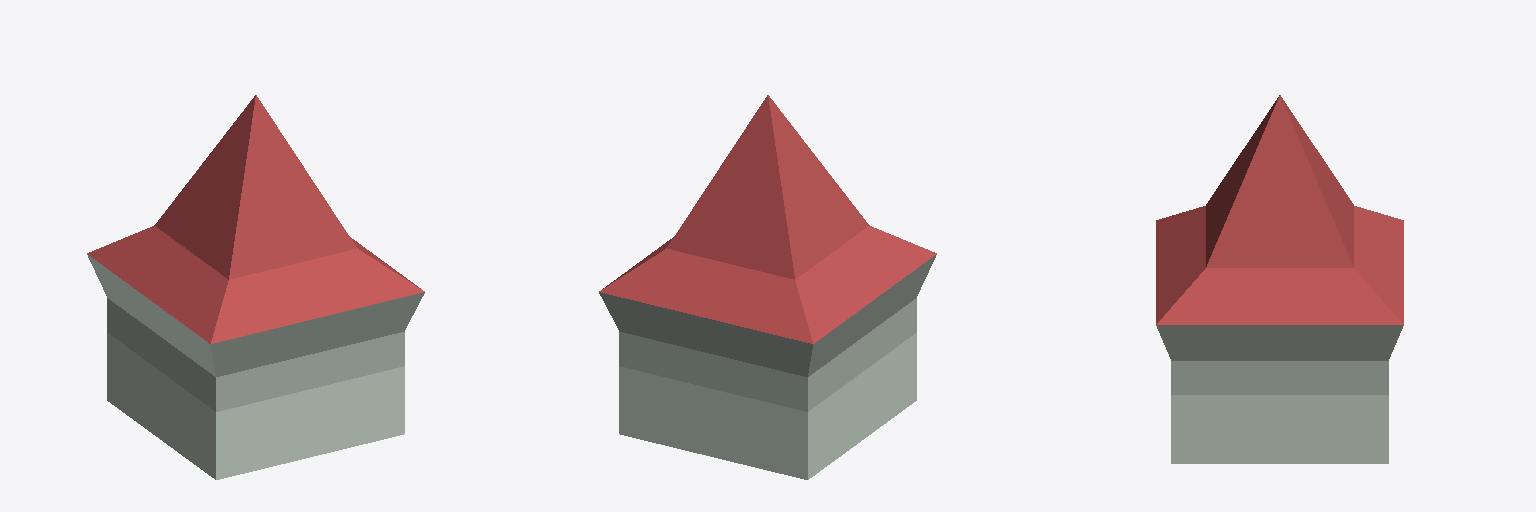
The model's file is towerDefense_027.obj.
3 views of the same model, side by side, from view 1: azimuth 30°, elevation 25°; view 2: azimuth 150°, elevation 25°; view 3: azimuth 270°, elevation 25° (orthographic).
Visible parts, largest first — view 1: Mesh1 Group1 Model; view 2: Mesh1 Group1 Model; view 3: Mesh1 Group1 Model.
Boxes of the visible parts, <box> form: Mesh1 Group1 Model: <box>87,95,424,479</box>; Mesh1 Group1 Model: <box>599,95,936,479</box>; Mesh1 Group1 Model: <box>1156,95,1403,463</box>.
Size of the model in its own units: 0.6727 by 0.9674 by 0.6727.